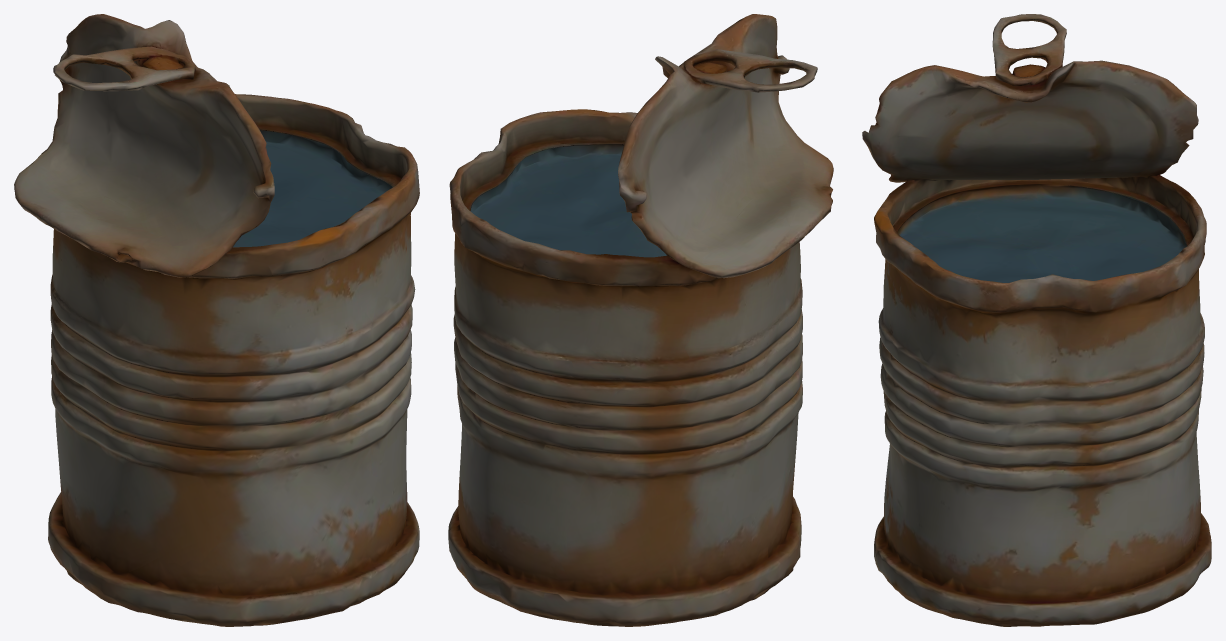
Rendered from lata.glb.
3 renders of one model, left to right at view 1: azimuth 30°, elevation 25°; view 2: azimuth 150°, elevation 25°; view 3: azimuth 270°, elevation 25°, orthographic. The views are drawn at different scales.
Parts seen in each view (by area): view 1: tripo_node_293ac4f2-3363-4466-a043-f07a1f5555dc; view 2: tripo_node_293ac4f2-3363-4466-a043-f07a1f5555dc; view 3: tripo_node_293ac4f2-3363-4466-a043-f07a1f5555dc.
Part boxes in pixels (x1,y1,x2,y2): tripo_node_293ac4f2-3363-4466-a043-f07a1f5555dc: (14,14,419,626); tripo_node_293ac4f2-3363-4466-a043-f07a1f5555dc: (448,14,833,626); tripo_node_293ac4f2-3363-4466-a043-f07a1f5555dc: (862,14,1211,626).
Bounding box in the file's own units: 0.6715 × 1 × 0.6654.
1 material, 1 textured.
